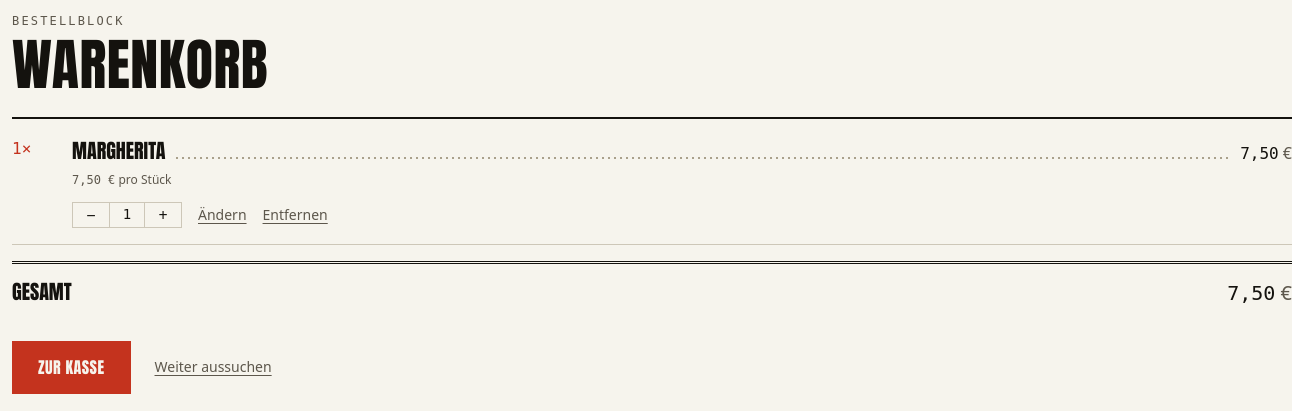
CartPageComponent › removing an item empties the cart view
Click the button "Entfernen".
click(295, 215)  # box [262,204,328,226]
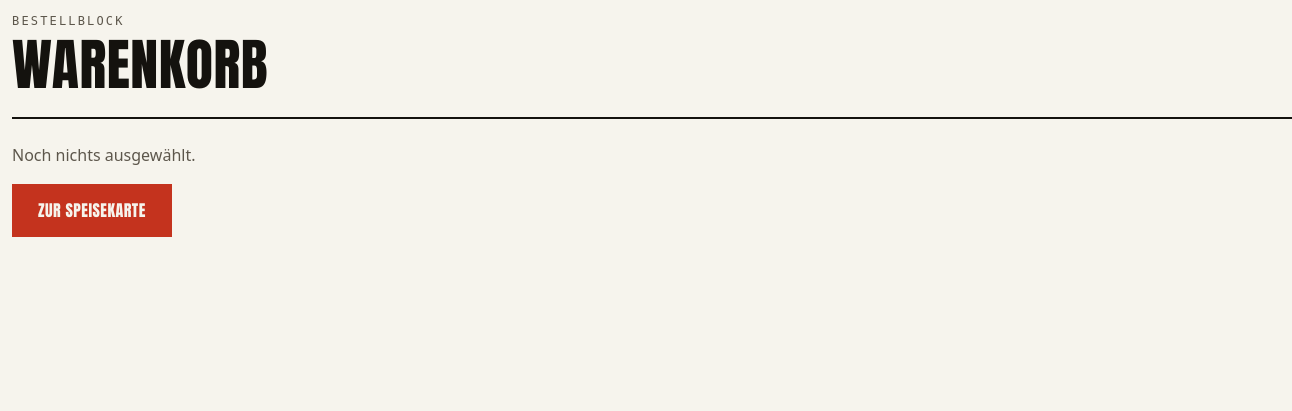
Result: the text "Noch nichts ausgewählt" is shown at [12,144,196,166]
